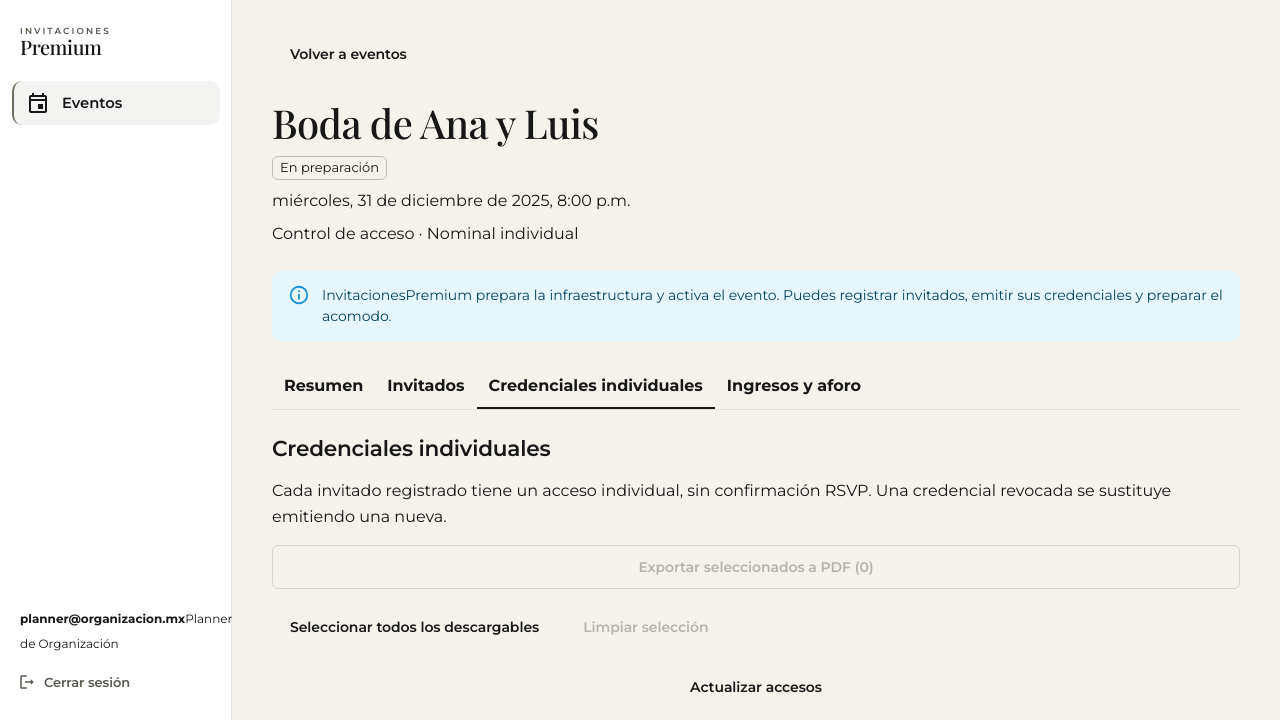
Test: ACCESS_CONTROL Client workspace › prunes nominal selection after a registered identity is withdrawn
Click the button "Seleccionar todos los descargables" at [415, 627], box x1=272 y1=605 x2=557 y2=649
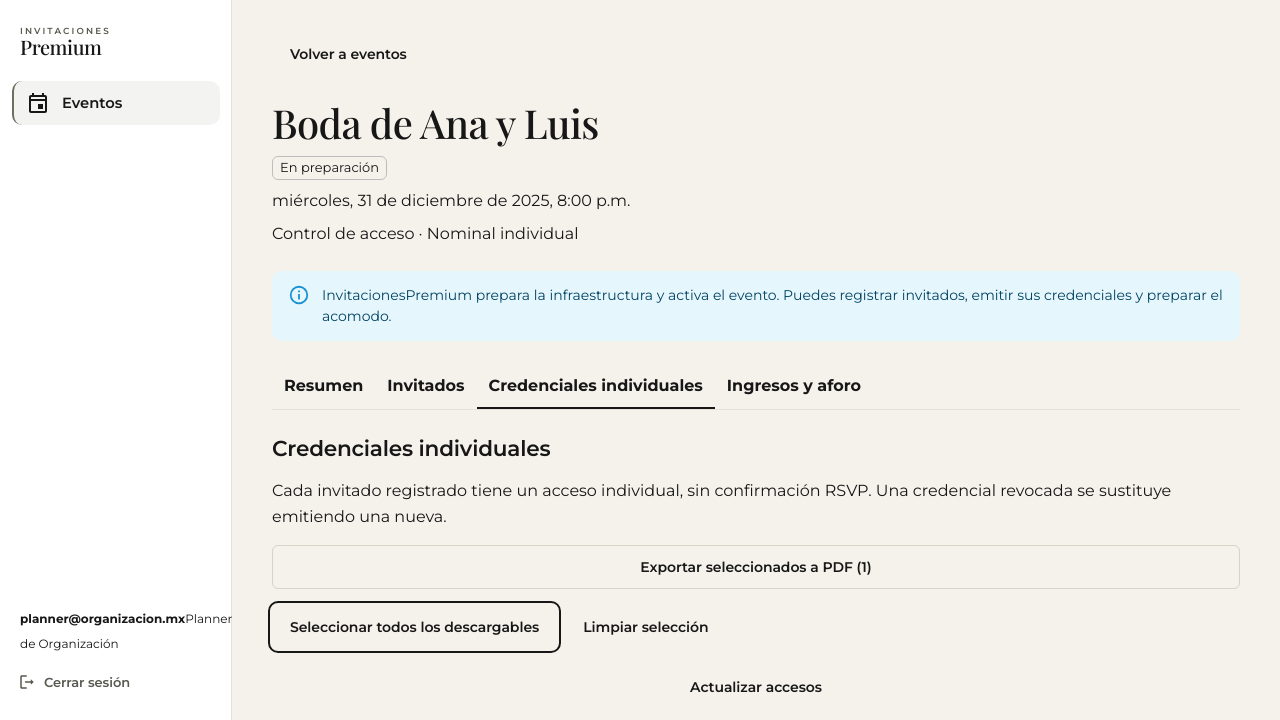
Click the button "Actualizar accesos" at [756, 687], box x1=272 y1=665 x2=1240 y2=709
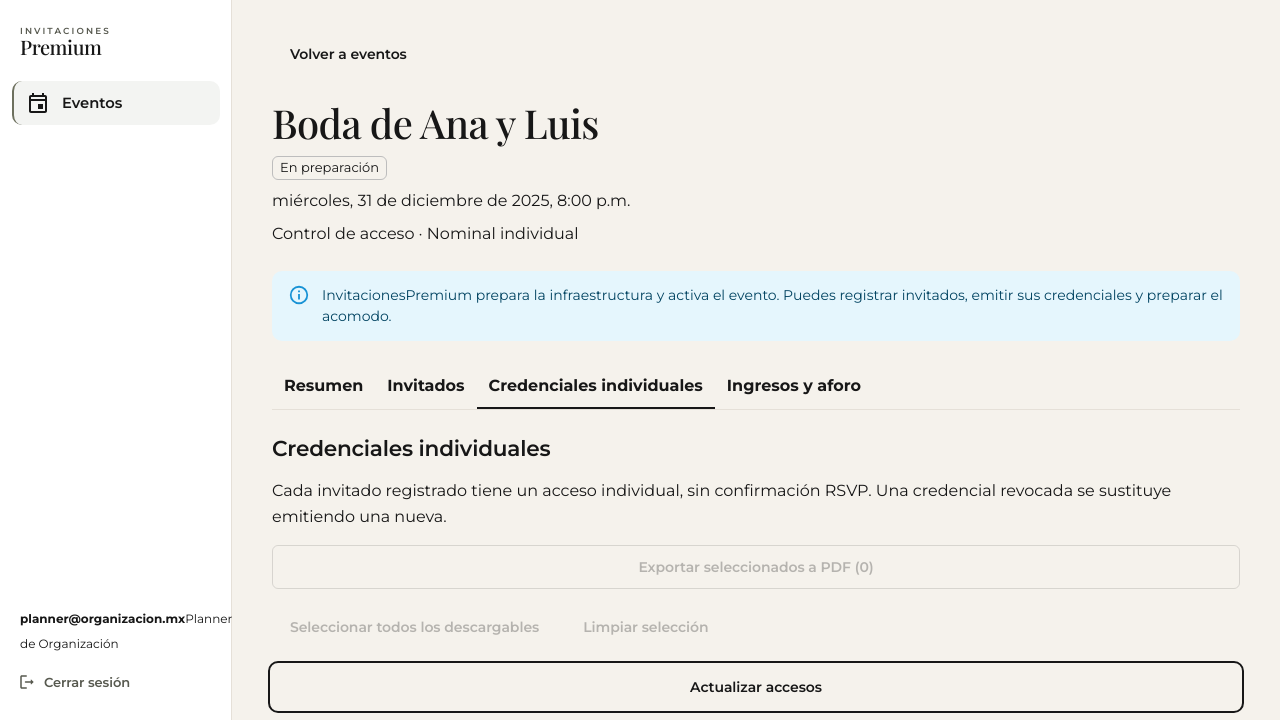
Result: the button "Exportar seleccionados a PDF (0)" is disabled at x1=272 y1=545 x2=1240 y2=589
Result: the button "Seleccionar todos los descargables" is disabled at x1=272 y1=605 x2=557 y2=649
